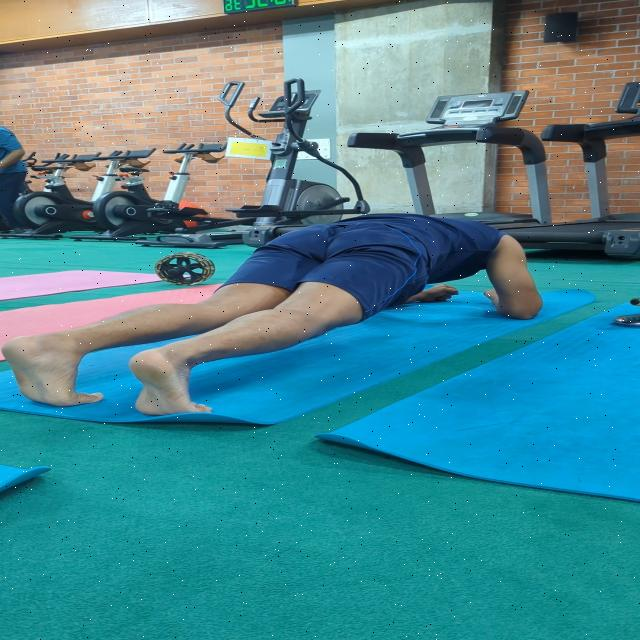Normal_Plunk: (0, 209, 550, 425)
